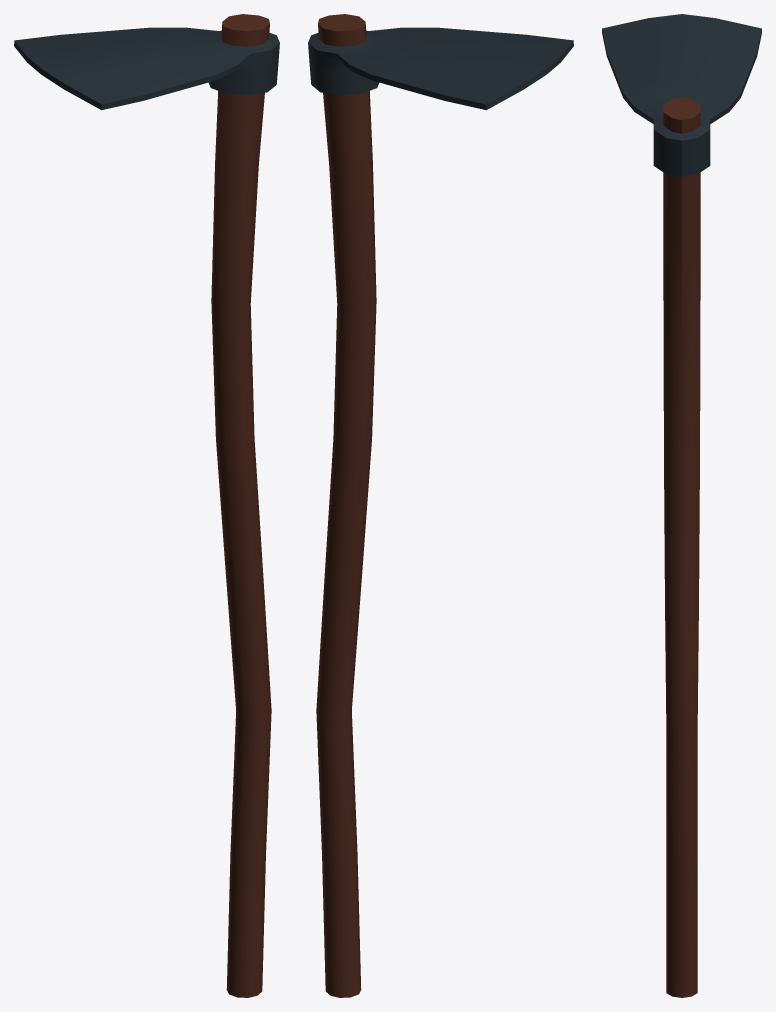
The model's file is hoe.fbx.
3 views of the same model, side by side, from view 1: azimuth 30°, elevation 25°; view 2: azimuth 150°, elevation 25°; view 3: azimuth 270°, elevation 25° (orthographic). The views are drawn at different scales.
Parts seen in each view (by area): view 1: hoe; view 2: hoe; view 3: hoe.
Boxes of the visible parts, box(x1,y1,x2,y2) form: hoe: box(14, 14, 279, 997); hoe: box(308, 14, 573, 997); hoe: box(602, 14, 761, 997).
Bounding box in the file's own units: 38.06 × 150 × 24.47.
